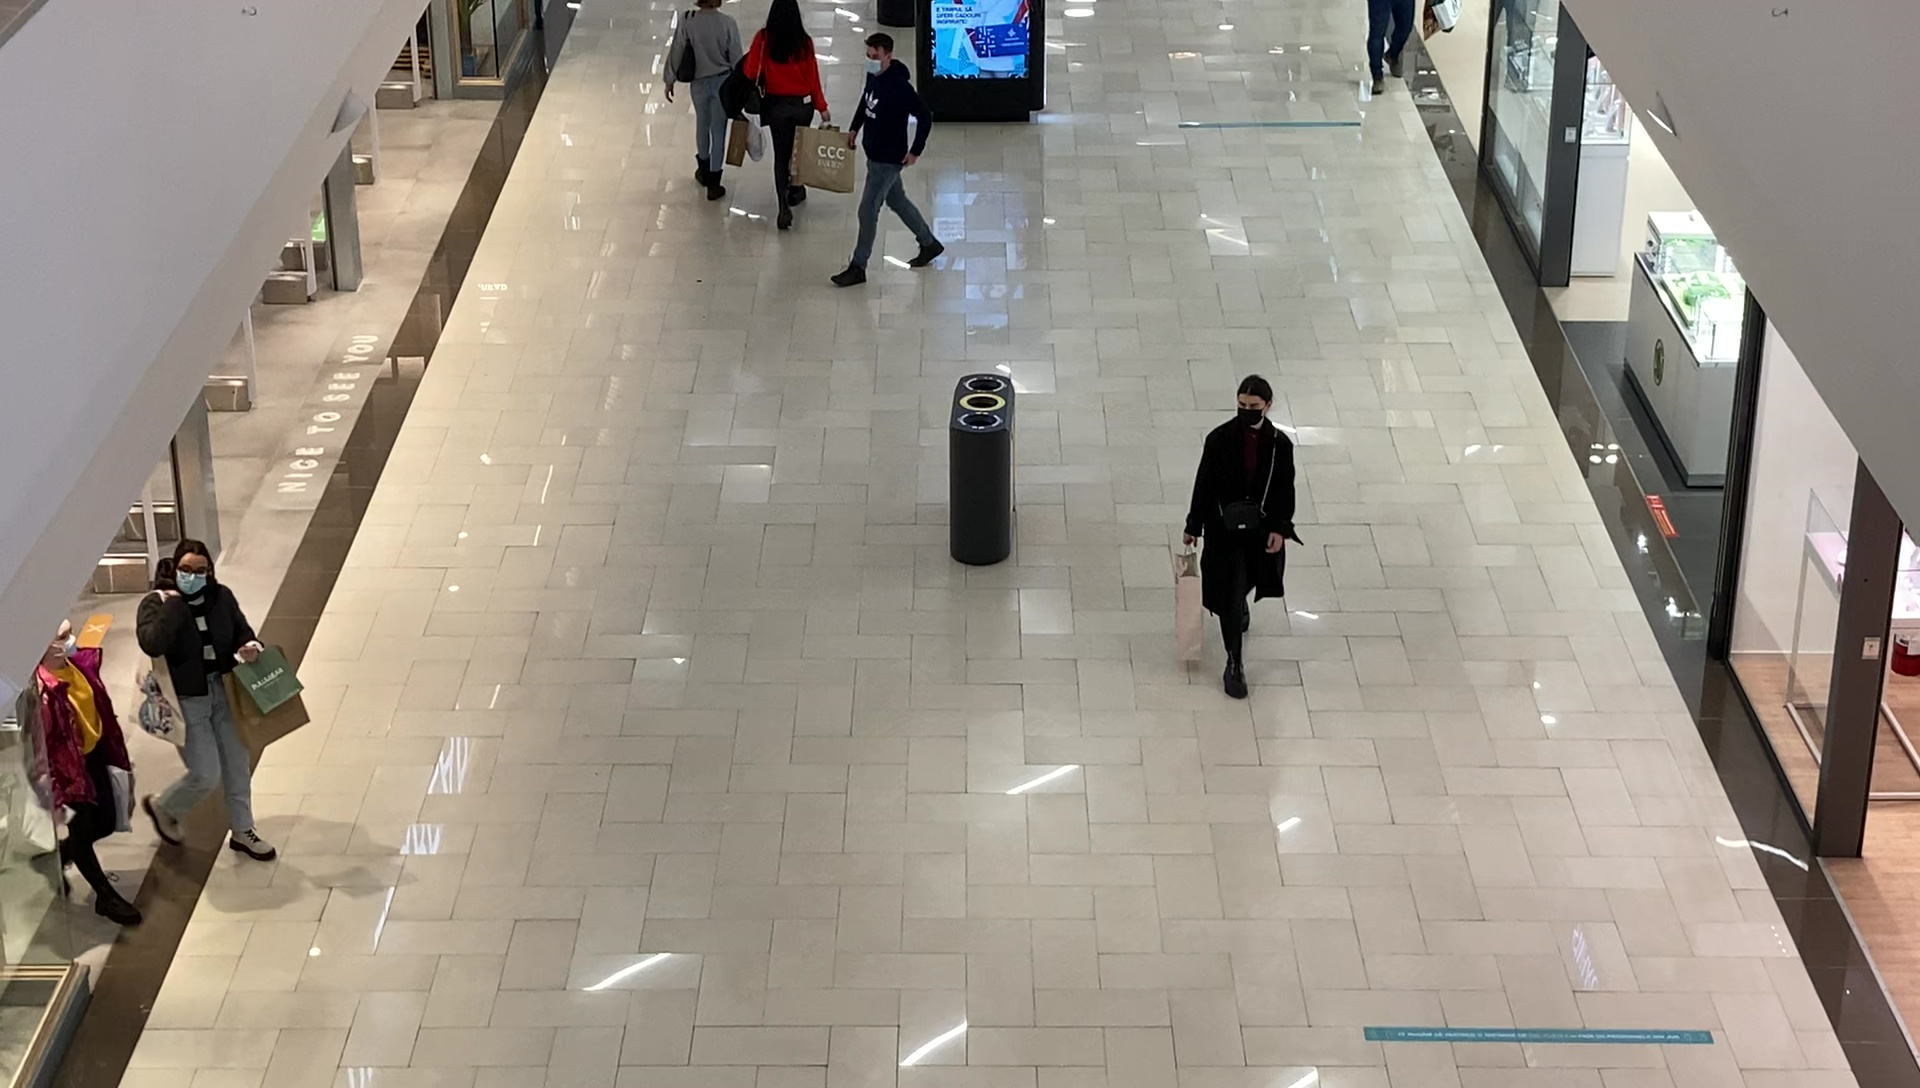person: (137, 541, 300, 862), (1185, 374, 1301, 700), (826, 33, 946, 286), (742, 1, 831, 230), (665, 1, 743, 201)
